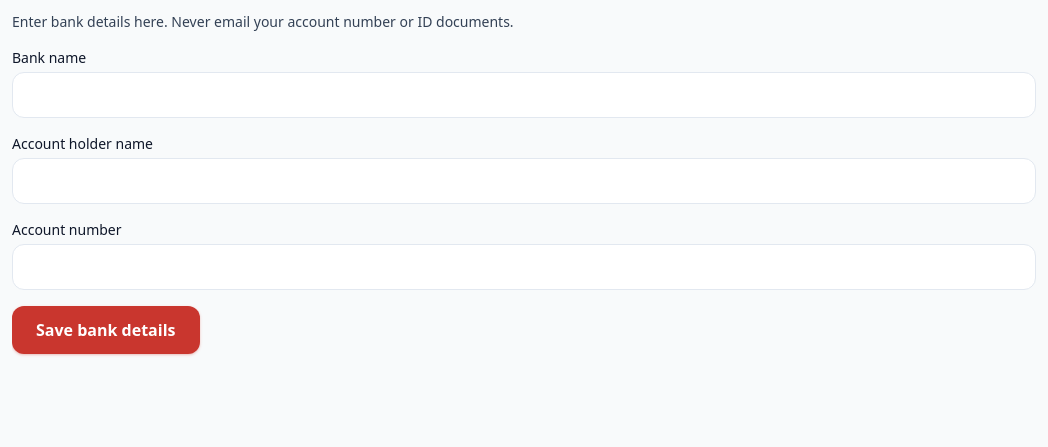
Test: organizer bank payout details › validates new details, preserves a rejected draft and clears the secret after saving
The width and height of the screenshot is (1048, 447).
Click the button "Save bank details" at (106, 330), box x1=12 y1=306 x2=200 y2=354
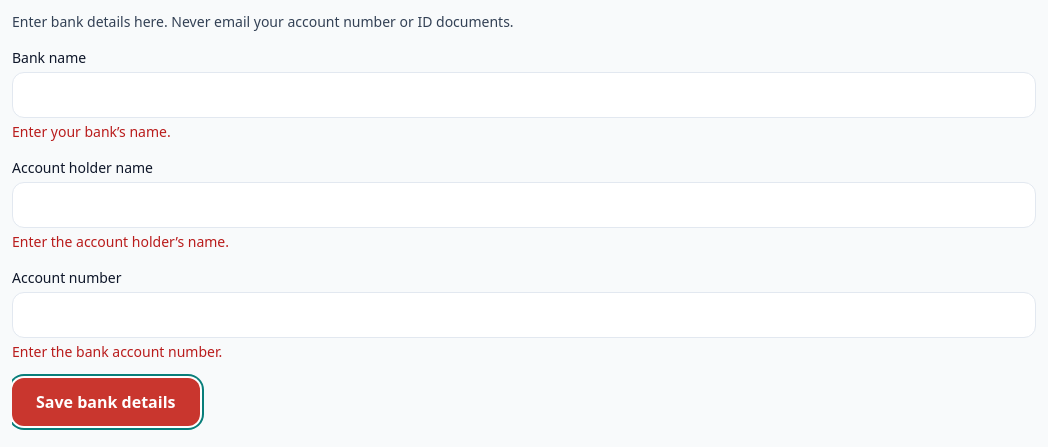
Expected: the text "Enter the bank account number." is shown, x1=12 y1=342 x2=222 y2=361
Type "Island Bank" into the field labelled "Bank name" at (524, 95), box x1=12 y1=72 x2=1036 y2=118
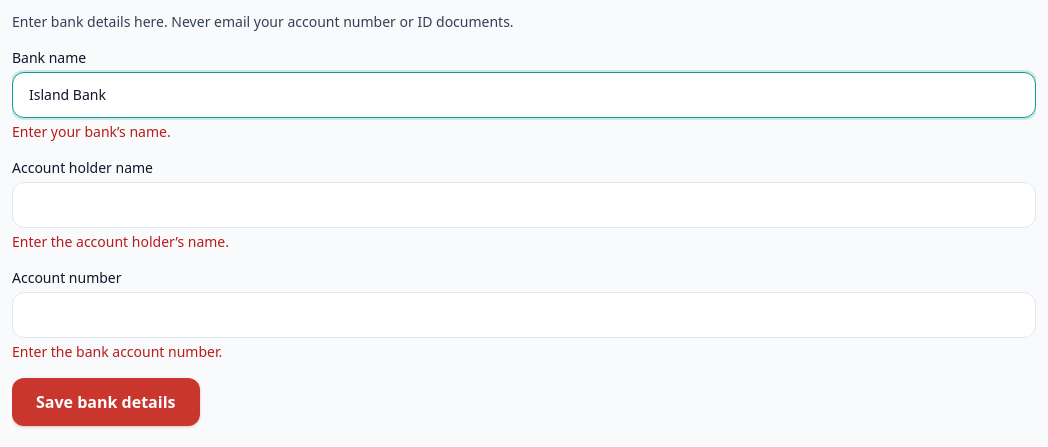
Type "Island Events LLC" into the field labelled "Account holder name" at (524, 205), box x1=12 y1=182 x2=1036 y2=228
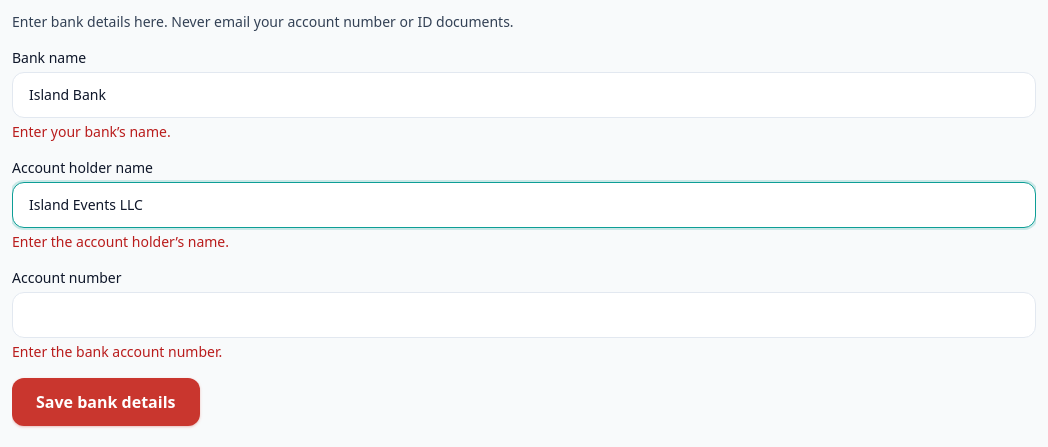
Type "123456789" into the password field labelled "Account number" at (524, 315), box x1=12 y1=292 x2=1036 y2=338
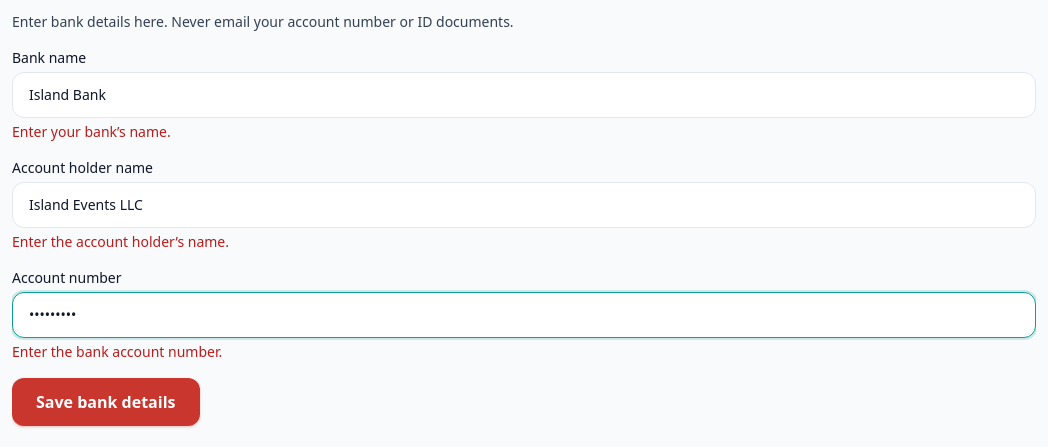
Click the button "Save bank details" at (106, 402), box x1=12 y1=378 x2=200 y2=426
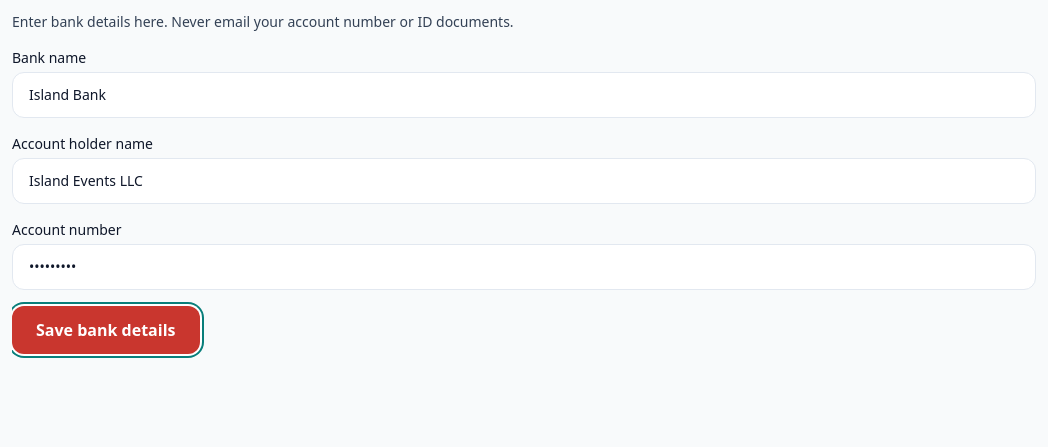
Click the button "Save bank details" at (106, 330), box x1=12 y1=306 x2=200 y2=354
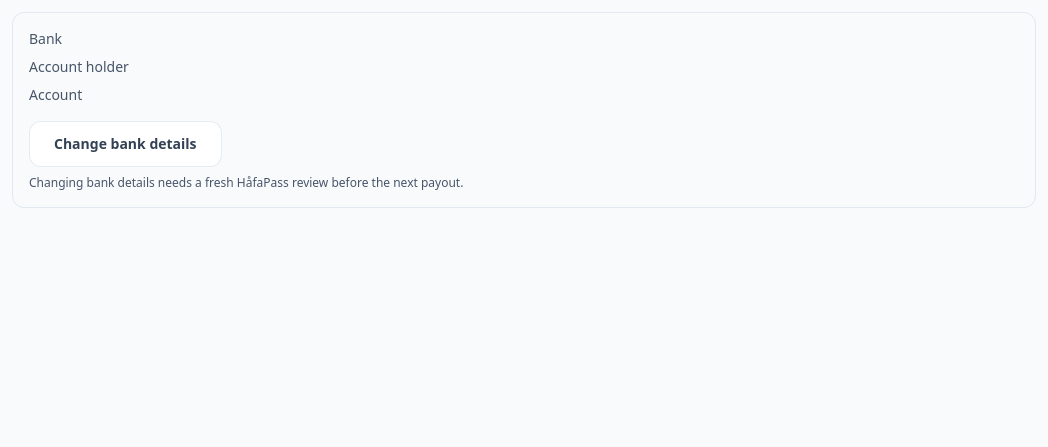
Expected: the text labelled "account number" is gone
